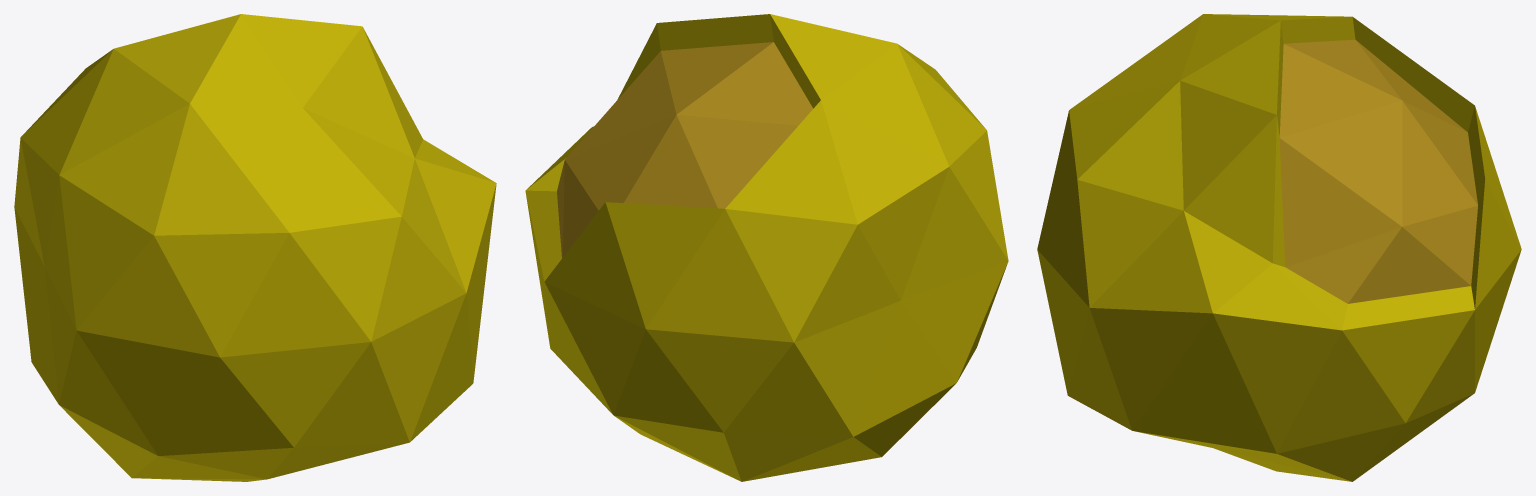
The model's file is Popcorinka4.fbx.
3 views of the same model, side by side, from view 1: azimuth 30°, elevation 25°; view 2: azimuth 150°, elevation 25°; view 3: azimuth 270°, elevation 25° (orthographic). The views are drawn at different scales.
Parts seen in each view (by area): view 1: Icosphere.003; view 2: Icosphere.003, Icosphere.006; view 3: Icosphere.003, Icosphere.006.
Boxes of the visible parts, left/top/right/bottom form: Icosphere.003: left=14, top=14, right=496, bottom=481; Icosphere.003: left=525, top=14, right=1008, bottom=481; Icosphere.006: left=557, top=42, right=813, bottom=258; Icosphere.003: left=1037, top=14, right=1521, bottom=481; Icosphere.006: left=1279, top=39, right=1477, bottom=303.
Size of the model in its own units: 28.22 by 29.45 by 28.77.
